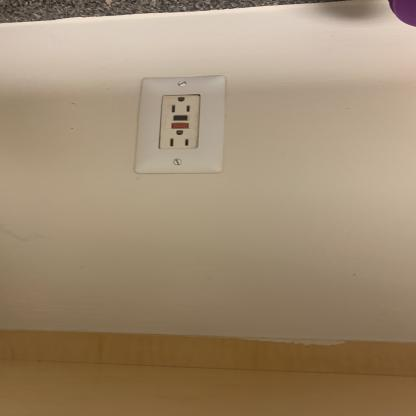OUTLET: (135, 76, 224, 174)
